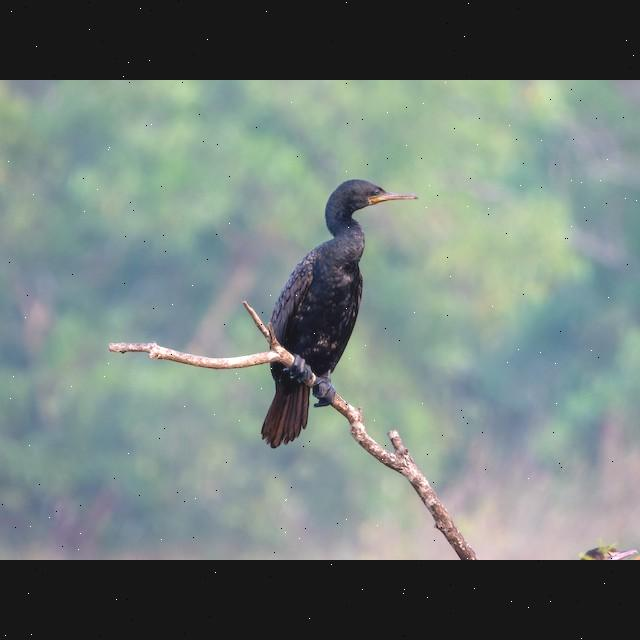cormorant: (262, 175, 421, 449)
